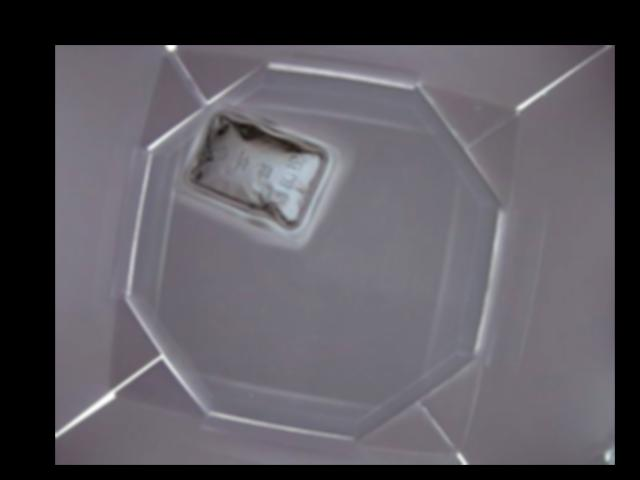Medicine: (174, 99, 344, 247)
